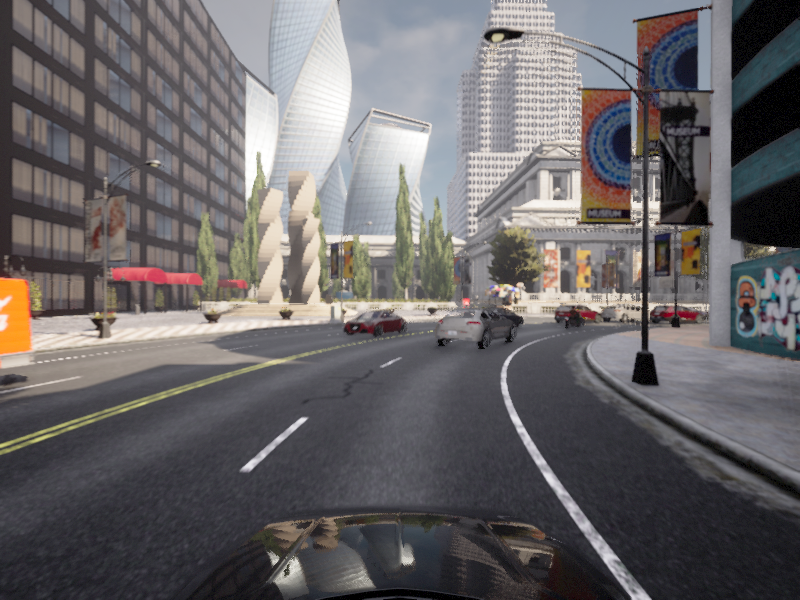vehicle: (428, 306, 518, 352), (338, 309, 410, 338), (465, 306, 527, 331), (701, 304, 773, 323), (644, 304, 708, 325), (549, 304, 605, 325), (597, 304, 656, 323), (650, 306, 714, 321), (560, 305, 588, 329)
